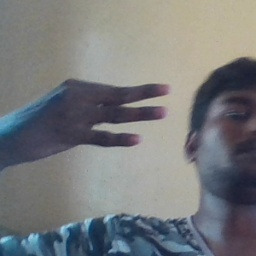K: (5, 75, 171, 158)
